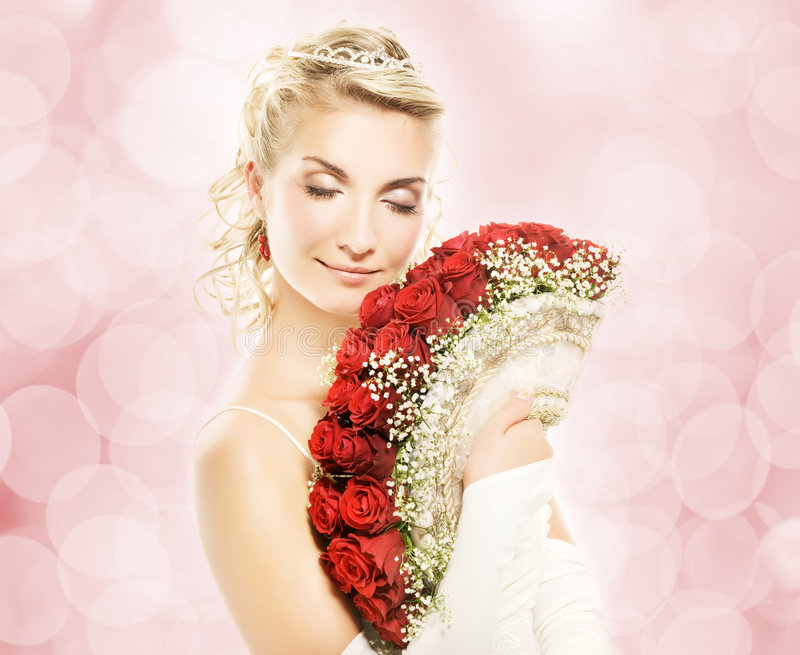RedRose: (318, 532, 407, 598), (370, 326, 433, 387), (398, 278, 453, 344), (347, 381, 407, 432), (340, 476, 396, 529), (331, 432, 388, 484), (296, 480, 340, 533), (313, 366, 354, 417), (444, 268, 488, 315), (361, 279, 402, 329), (366, 610, 435, 639), (355, 587, 401, 625), (335, 325, 366, 378), (308, 413, 338, 467), (474, 212, 524, 244), (569, 234, 620, 265), (424, 249, 474, 278), (518, 220, 566, 248), (441, 230, 481, 261), (400, 258, 441, 283), (545, 238, 579, 268)
